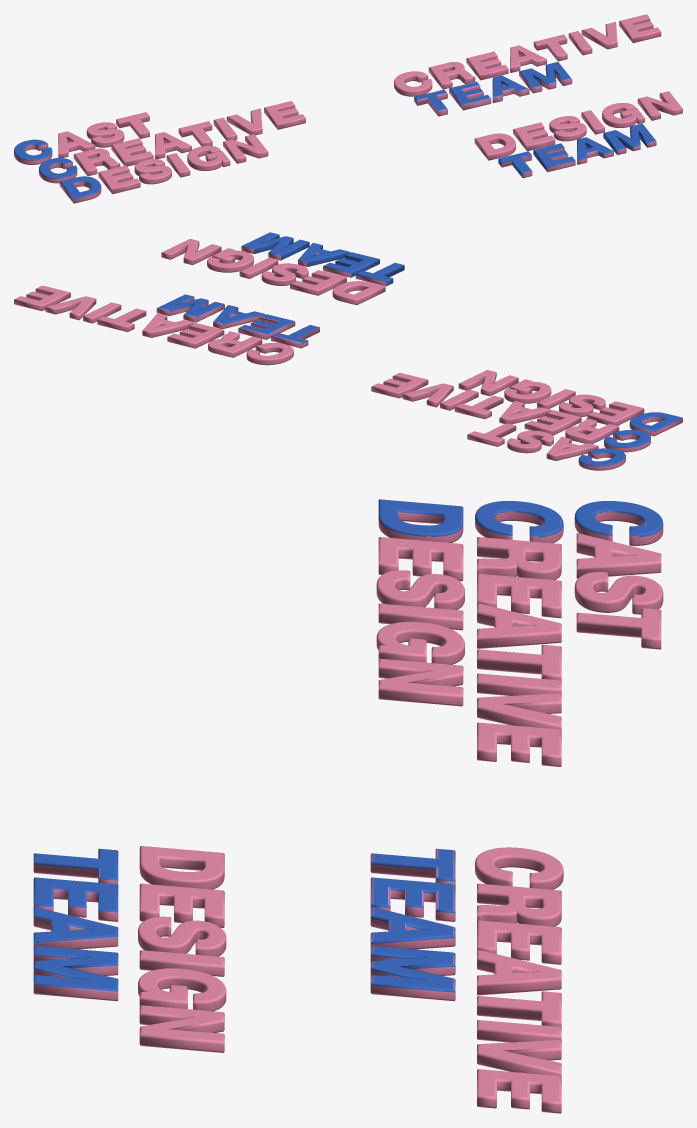
File: creative team_text.fbx
The picture shows the model from 3 angles, top to bottom: view 1: azimuth 30°, elevation 25°; view 2: azimuth 150°, elevation 25°; view 3: azimuth 270°, elevation 25°; orthographic projection. The views are drawn at different scales.
Visible parts, largest first — view 1: CREATIVE TEAM.001, DESIGN TEAM.001, CREATIVE TEAM, DESIGN TEAM, CAST; view 2: CREATIVE TEAM.001, DESIGN TEAM.001, CREATIVE TEAM, DESIGN TEAM, CAST; view 3: CREATIVE TEAM.001, DESIGN TEAM.001, CREATIVE TEAM, DESIGN TEAM, CAST.
Boxes of the visible parts, left/top/right/bottom form: CREATIVE TEAM.001: left=394, top=14, right=661, bottom=116; DESIGN TEAM.001: left=474, top=91, right=682, bottom=178; CREATIVE TEAM: left=39, top=101, right=305, bottom=183; DESIGN TEAM: left=59, top=134, right=268, bottom=203; CAST: left=14, top=112, right=149, bottom=164; CREATIVE TEAM.001: left=14, top=285, right=319, bottom=365; DESIGN TEAM.001: left=161, top=232, right=404, bottom=305; CREATIVE TEAM: left=371, top=372, right=650, bottom=452; DESIGN TEAM: left=458, top=370, right=682, bottom=436; CAST: left=467, top=423, right=625, bottom=470; CREATIVE TEAM.001: left=370, top=847, right=563, bottom=1113; DESIGN TEAM.001: left=33, top=846, right=226, bottom=1052; CREATIVE TEAM: left=475, top=501, right=563, bottom=766; DESIGN TEAM: left=376, top=499, right=464, bottom=706; CAST: left=574, top=501, right=663, bottom=649.
Size of the model in its own units: 1078 by 10 by 475.
